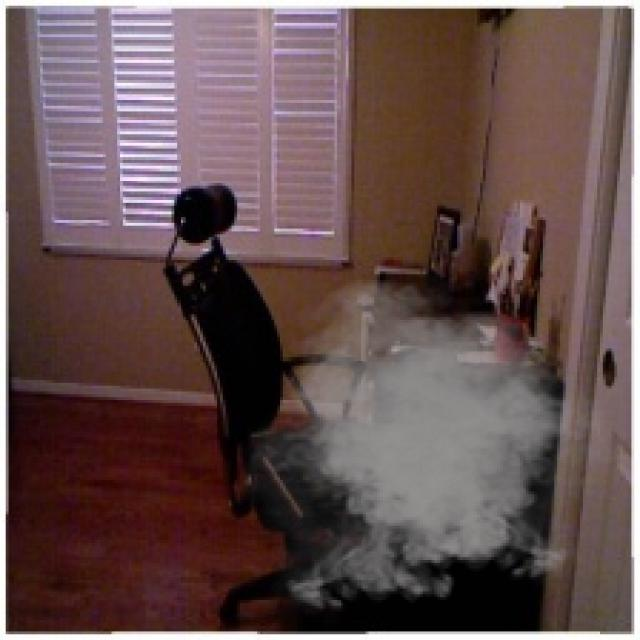smoke: (228, 274, 626, 620)
